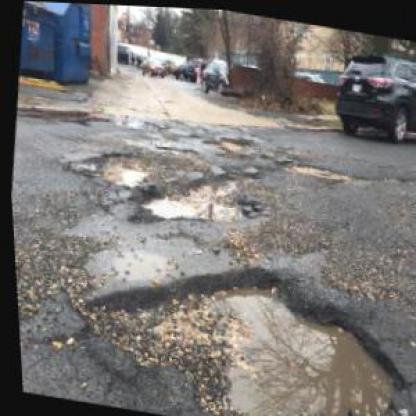pothole: (60, 233, 414, 415), (125, 152, 269, 246), (78, 142, 156, 192), (290, 157, 359, 180), (215, 132, 247, 151)
